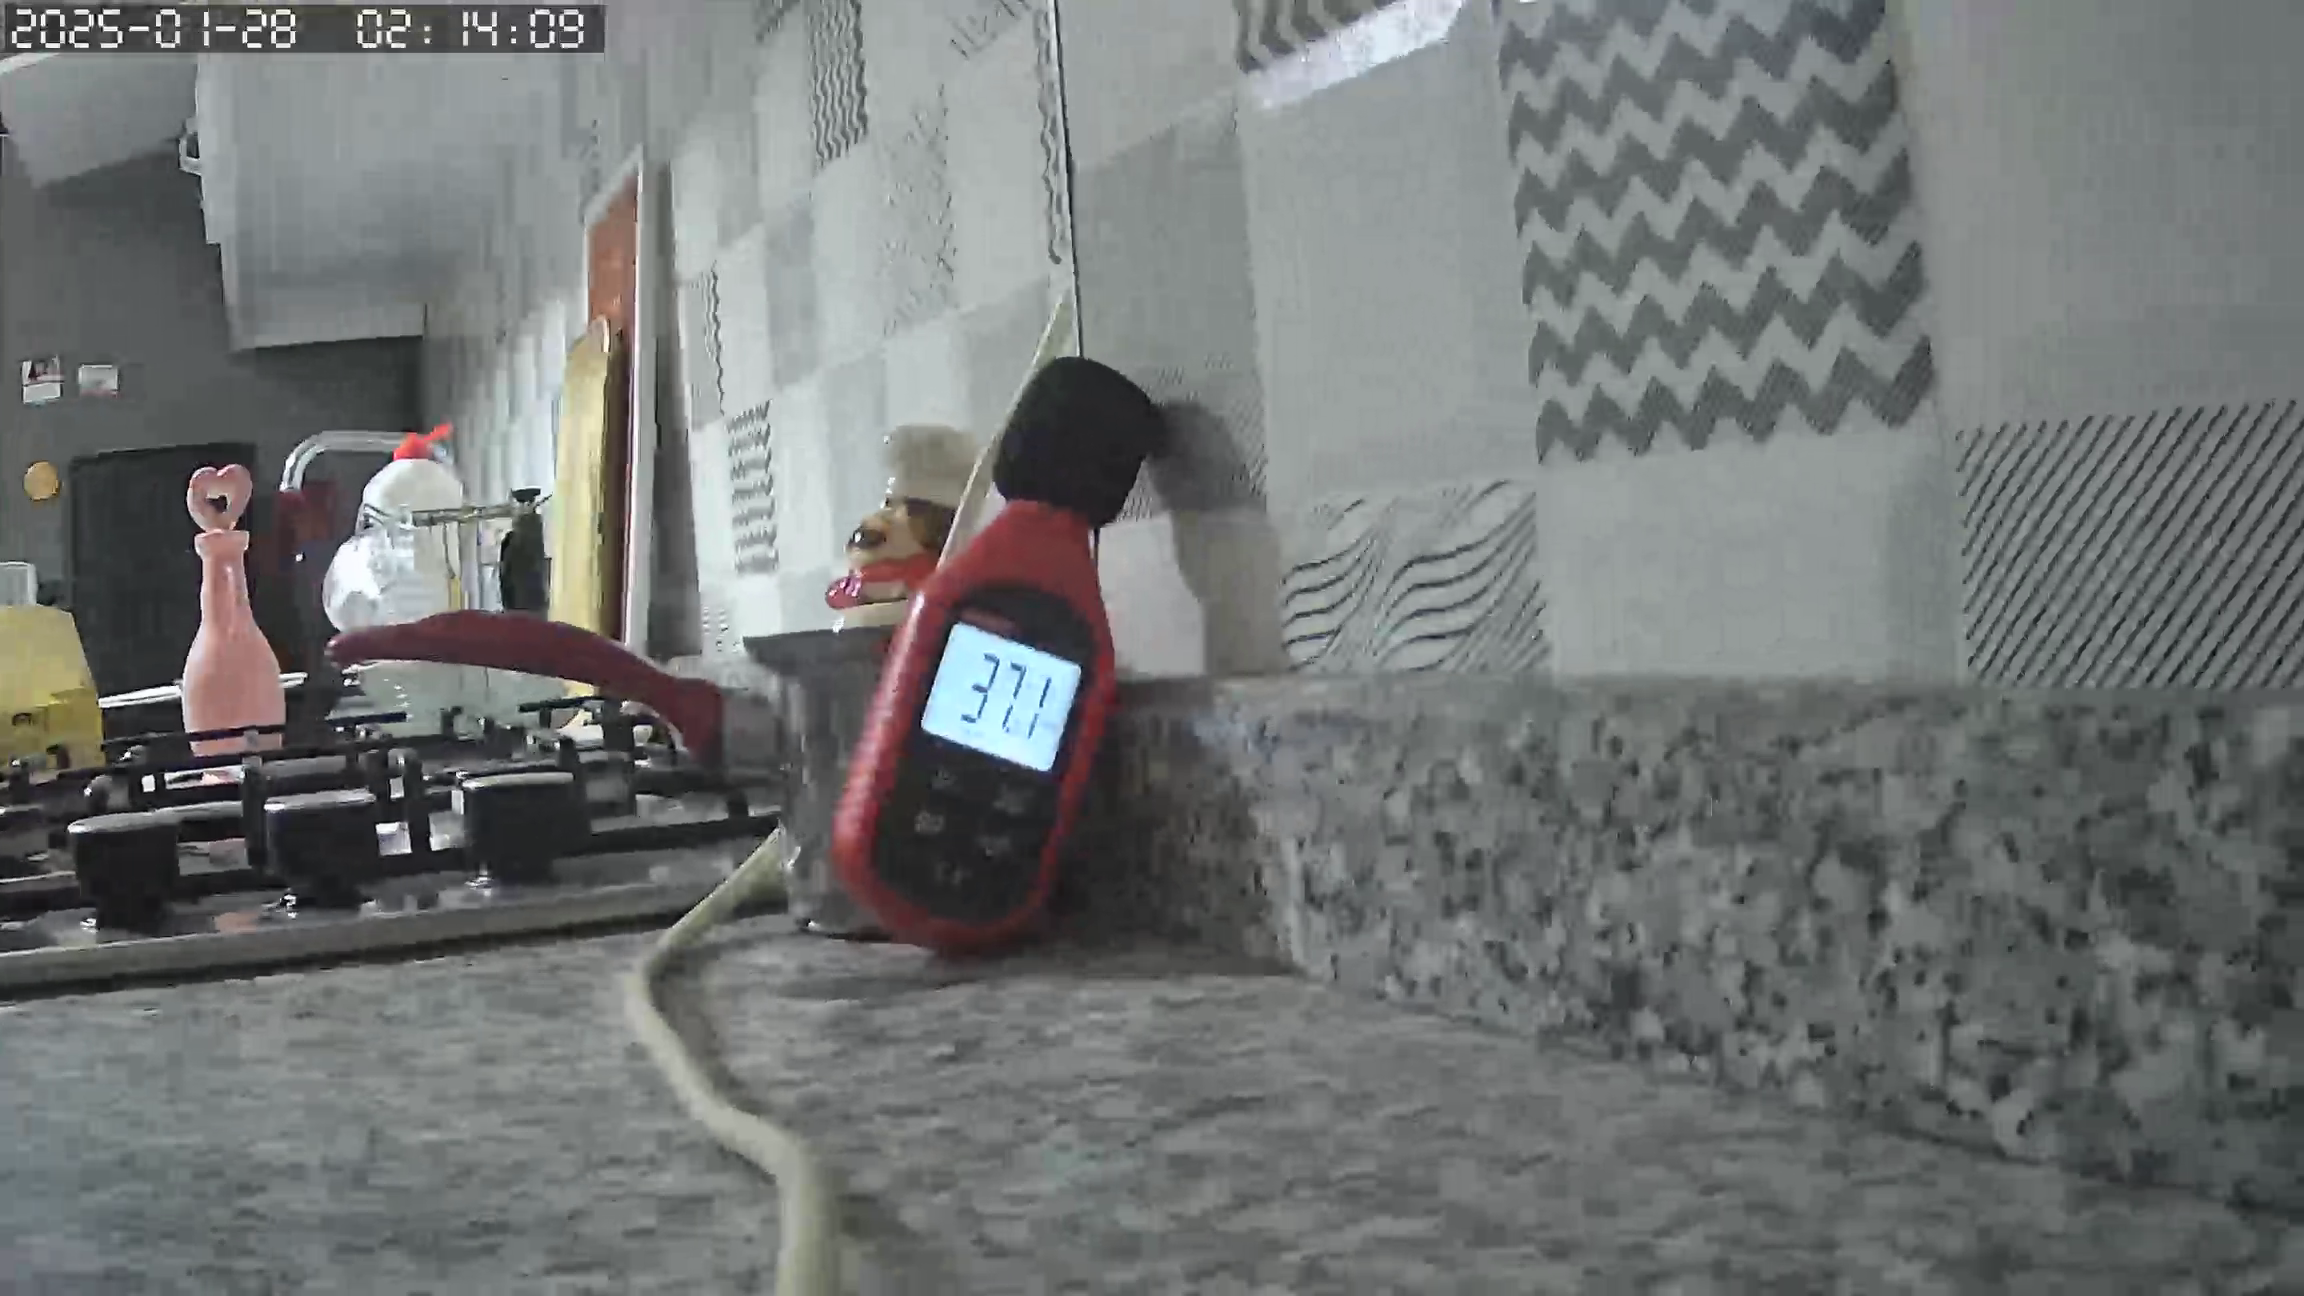screen: (919, 620, 1086, 779)
